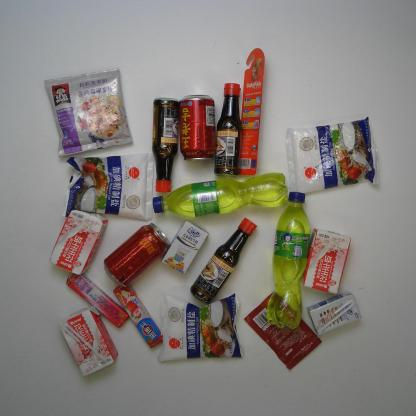Candy: (63, 270, 129, 330), (112, 281, 163, 350)
Drink: (152, 173, 288, 221), (266, 191, 312, 331), (103, 222, 170, 288), (178, 93, 215, 162)
Instant Drink: (42, 66, 134, 157)
Milk: (58, 307, 118, 379), (48, 209, 110, 276), (302, 228, 354, 295), (161, 220, 209, 276), (306, 292, 362, 336)
Personal Hygiene: (232, 47, 267, 177)
Seasoner: (282, 116, 382, 197), (63, 149, 156, 224), (244, 293, 322, 371), (190, 216, 258, 305), (156, 292, 242, 362), (213, 81, 244, 177), (151, 96, 178, 193)
